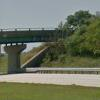Bridge: (7, 21, 73, 52)
